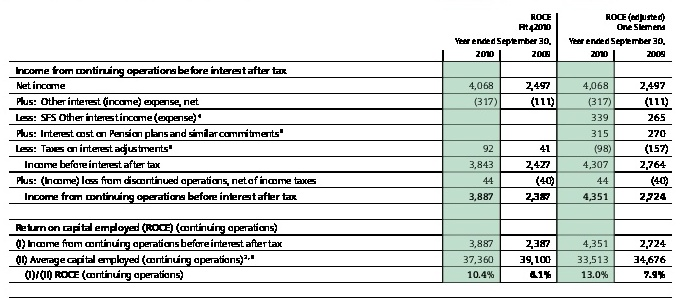table: (0, 0, 683, 298)
